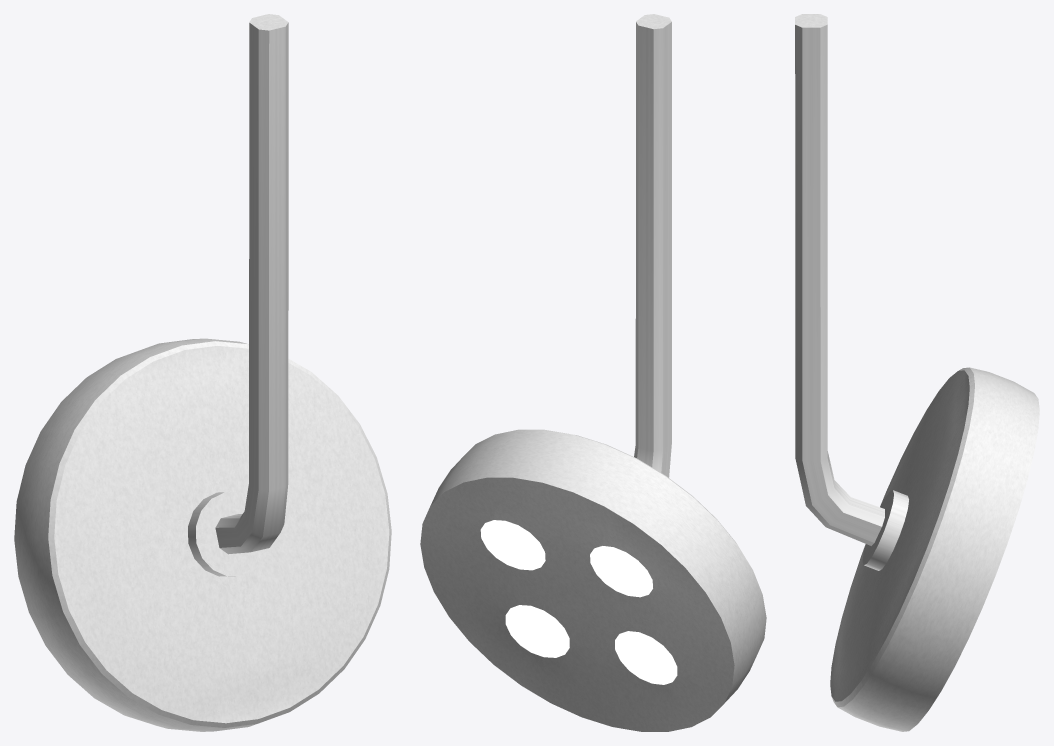
Rendered from ClinicLamp.fbx.
3 views of the same model, side by side, from view 1: azimuth 30°, elevation 25°; view 2: azimuth 150°, elevation 25°; view 3: azimuth 270°, elevation 25° (orthographic). The views are drawn at different scales.
Parts seen in each view (by area): view 1: Cylinder; view 2: Cylinder; view 3: Cylinder.
Boxes of the visible parts, left/top/right/bottom form: Cylinder: left=14, top=14, right=391, bottom=731; Cylinder: left=420, top=14, right=766, bottom=731; Cylinder: left=795, top=14, right=1039, bottom=731.
Bounding box in the file's own units: 3.42 × 7.07 × 2.26.
Materials: 1 (1 with a texture image).
